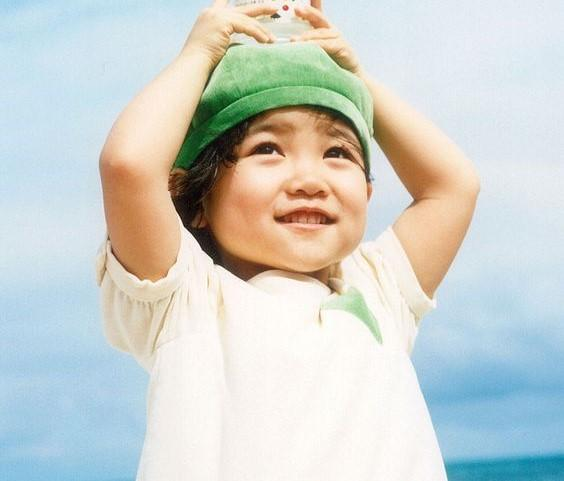Healthy: (182, 35, 377, 285)
